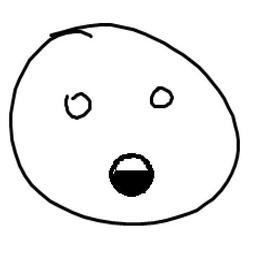empty_eye: (58, 87, 97, 128), (149, 80, 177, 111)
open_mouth: (102, 146, 159, 205)
